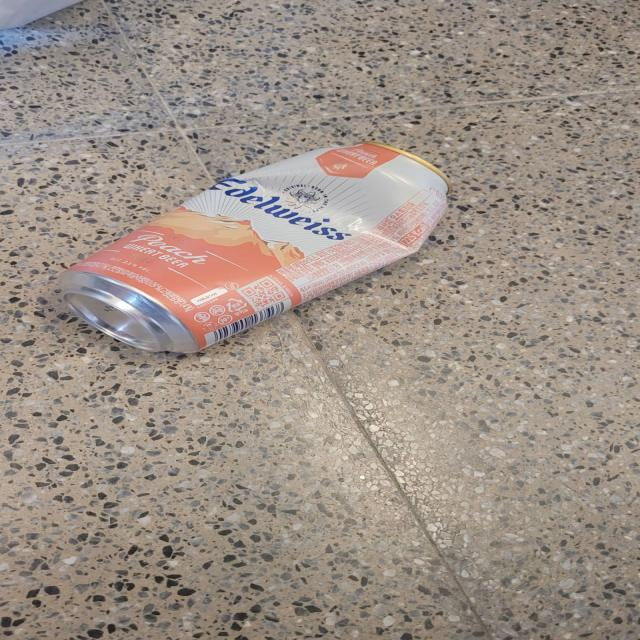Metal Cans: (38, 138, 470, 354)
